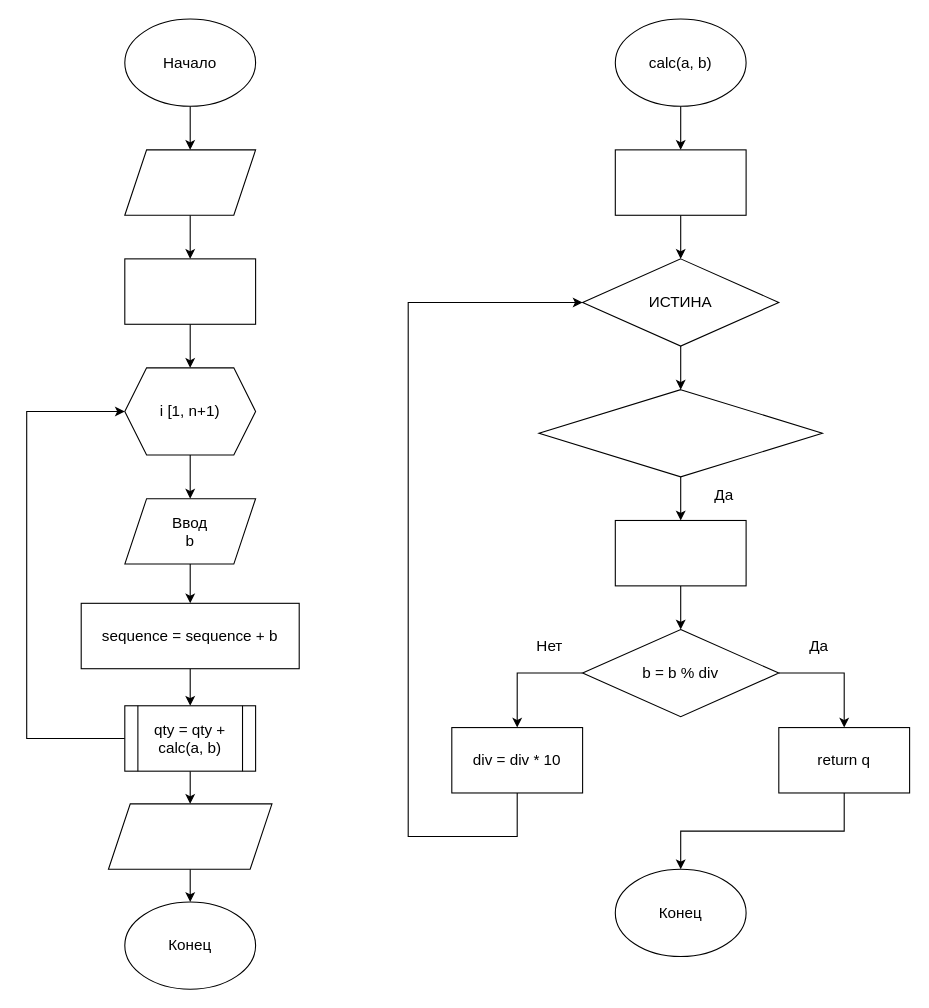
Image size: 929x1008. Some labels were removed from this diagram. Each missing label, with the centre of its shape:
"(b % div) // (div / 10) = a" goes at (x=680, y=433).
"q = 0 div = 10" goes at (x=680, y=182).
"q = q + 1" goes at (x=680, y=552).
"qty = 0 sequence = ''" goes at (x=190, y=291).
"Ввод n, a" goes at (x=190, y=182).
"Вывод sequence , qty" goes at (x=189, y=836).
